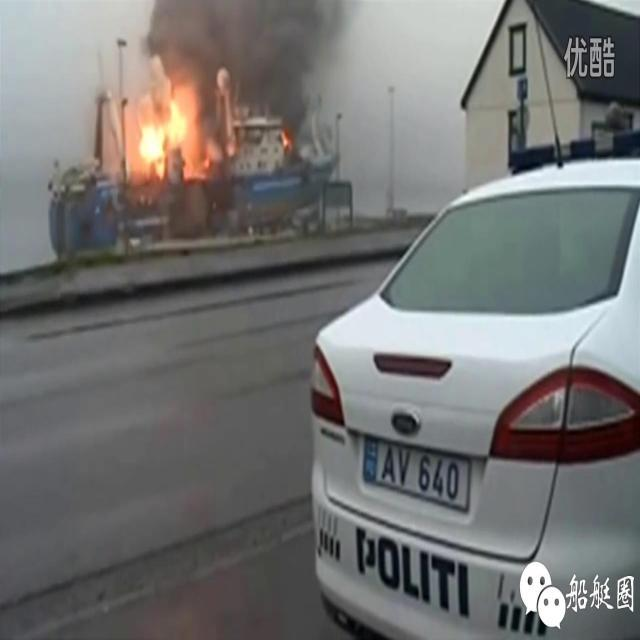Fire: (125, 76, 217, 190)
Smoke: (150, 3, 348, 120)
